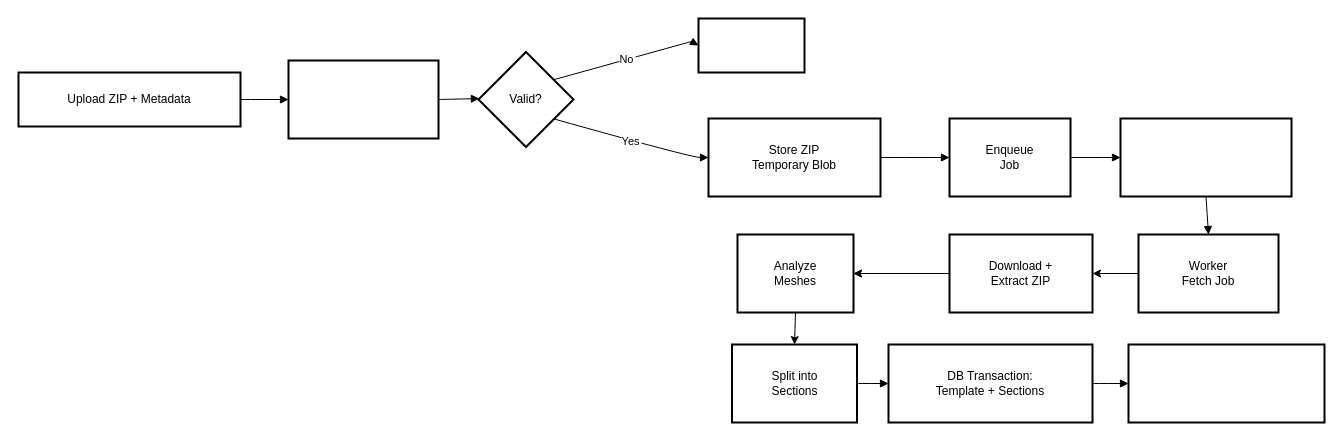
The diagram is 1342 pixels wide and 440 high, and some of its shapes have lost their labels. Each missing label, with the box of its shape:
API Gateway Validation: (287, 59, 439, 139)
Apply Processing Lock: (1119, 117, 1292, 197)
Reject: (697, 17, 805, 73)
Release Lock + Record Completion: (1127, 343, 1325, 423)
